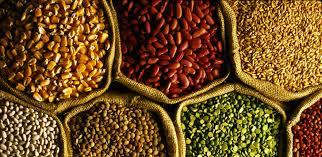Organic: (2, 2, 322, 157)
